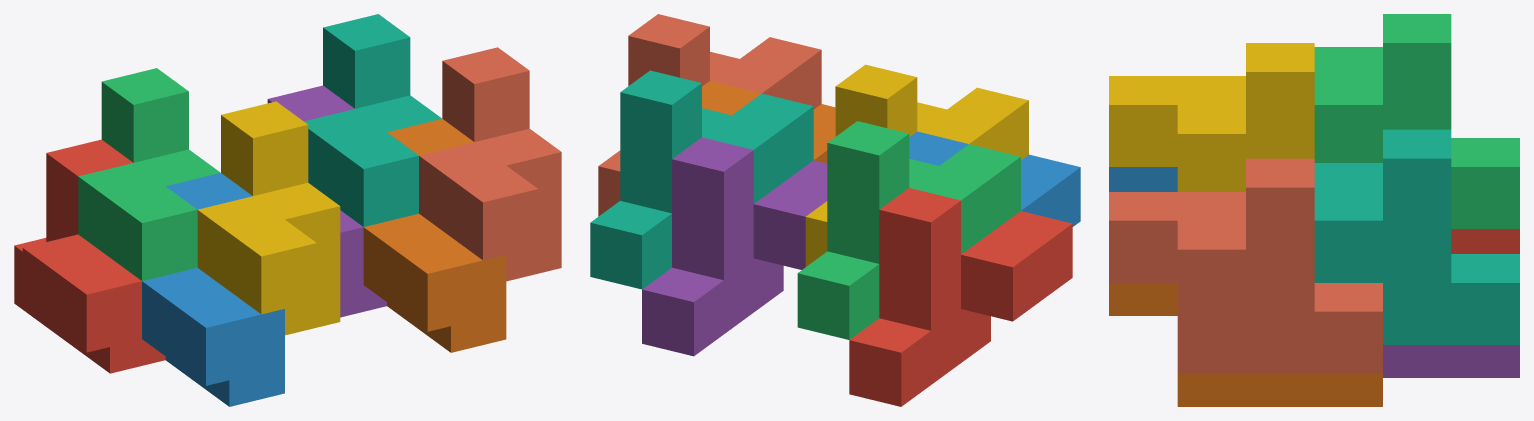
The model's file is tiling.obj.
The picture shows the model from 3 angles, left to right: view 1: azimuth 30°, elevation 25°; view 2: azimuth 150°, elevation 25°; view 3: azimuth 270°, elevation 25°; orthographic projection. The views are drawn at different scales.
Visible parts, largest first — view 1: copy_1_domain_4, copy_1_domain_8, copy_1_domain_3, copy_1_domain_7, copy_1_domain_1, copy_1_domain_6, copy_1_domain_2, copy_1_domain_5; view 2: copy_1_domain_1, copy_1_domain_5, copy_1_domain_3, copy_1_domain_7, copy_1_domain_4, copy_1_domain_8, copy_1_domain_2, copy_1_domain_6; view 3: copy_1_domain_8, copy_1_domain_7, copy_1_domain_3, copy_1_domain_4, copy_1_domain_6, copy_1_domain_5, copy_1_domain_1, copy_1_domain_2.
Part boxes in pixels (left/top/right/bottom): copy_1_domain_4: left=197, top=101, right=340, bottom=335; copy_1_domain_8: left=419, top=47, right=561, bottom=281; copy_1_domain_3: left=78, top=68, right=220, bottom=280; copy_1_domain_7: left=304, top=14, right=441, bottom=226; copy_1_domain_1: left=14, top=139, right=165, bottom=373; copy_1_domain_6: left=363, top=118, right=506, bottom=352; copy_1_domain_2: left=142, top=173, right=284, bottom=406; copy_1_domain_5: left=267, top=85, right=386, bottom=317; copy_1_domain_1: left=849, top=188, right=1072, bottom=406; copy_1_domain_5: left=642, top=137, right=827, bottom=356; copy_1_domain_3: left=797, top=121, right=1020, bottom=339; copy_1_domain_7: left=590, top=70, right=813, bottom=289; copy_1_domain_4: left=805, top=64, right=1028, bottom=266; copy_1_domain_8: left=598, top=14, right=821, bottom=216; copy_1_domain_2: left=909, top=131, right=1080, bottom=226; copy_1_domain_6: left=702, top=81, right=835, bottom=163; copy_1_domain_8: left=1109, top=158, right=1382, bottom=373; copy_1_domain_7: left=1314, top=129, right=1519, bottom=344; copy_1_domain_3: left=1314, top=14, right=1519, bottom=228; copy_1_domain_4: left=1109, top=43, right=1314, bottom=191; copy_1_domain_6: left=1109, top=283, right=1382, bottom=406; copy_1_domain_5: left=1383, top=345, right=1519, bottom=377; copy_1_domain_1: left=1451, top=229, right=1519, bottom=253; copy_1_domain_2: left=1109, top=167, right=1177, bottom=191.
Bounding box in the file's own units: 8 × 4 × 6.
